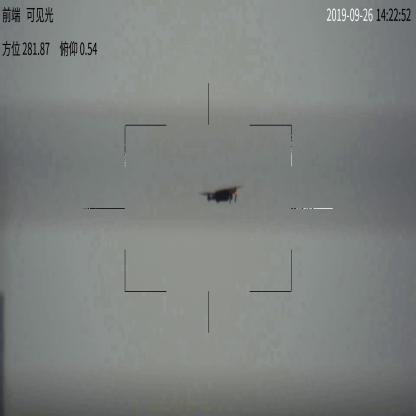uav: (199, 183, 245, 208)
